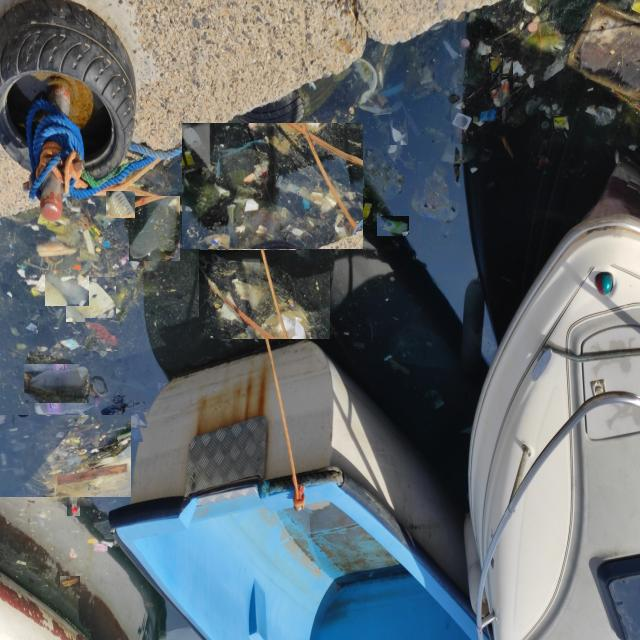Bottle cap: (526, 22, 540, 34), (460, 37, 471, 50), (541, 120, 550, 132), (103, 238, 111, 248), (289, 242, 297, 252), (95, 246, 101, 254)
Plastic bag: (129, 196, 180, 261), (219, 241, 270, 280), (45, 270, 89, 306)
Plastic bottle: (24, 364, 90, 403), (34, 390, 100, 417), (106, 191, 135, 218), (67, 489, 80, 516)
Plastic cup: (451, 110, 473, 144), (389, 118, 408, 145), (314, 172, 332, 190)
Plastic packaging: (411, 182, 462, 228), (66, 277, 116, 322), (418, 162, 449, 213), (85, 318, 118, 351), (584, 102, 618, 130), (37, 211, 71, 237), (490, 76, 513, 106), (347, 198, 372, 225), (377, 216, 409, 236), (35, 272, 58, 294), (124, 412, 147, 428), (59, 336, 80, 352), (478, 108, 498, 124), (553, 115, 569, 132), (60, 576, 80, 589), (489, 53, 502, 73), (128, 427, 143, 442), (92, 541, 109, 553), (502, 57, 512, 76), (26, 322, 38, 334)
Undefined trash: (182, 123, 363, 249), (199, 250, 330, 339), (0, 415, 131, 497), (564, 0, 640, 117)
Wood: (3, 457, 76, 488)
